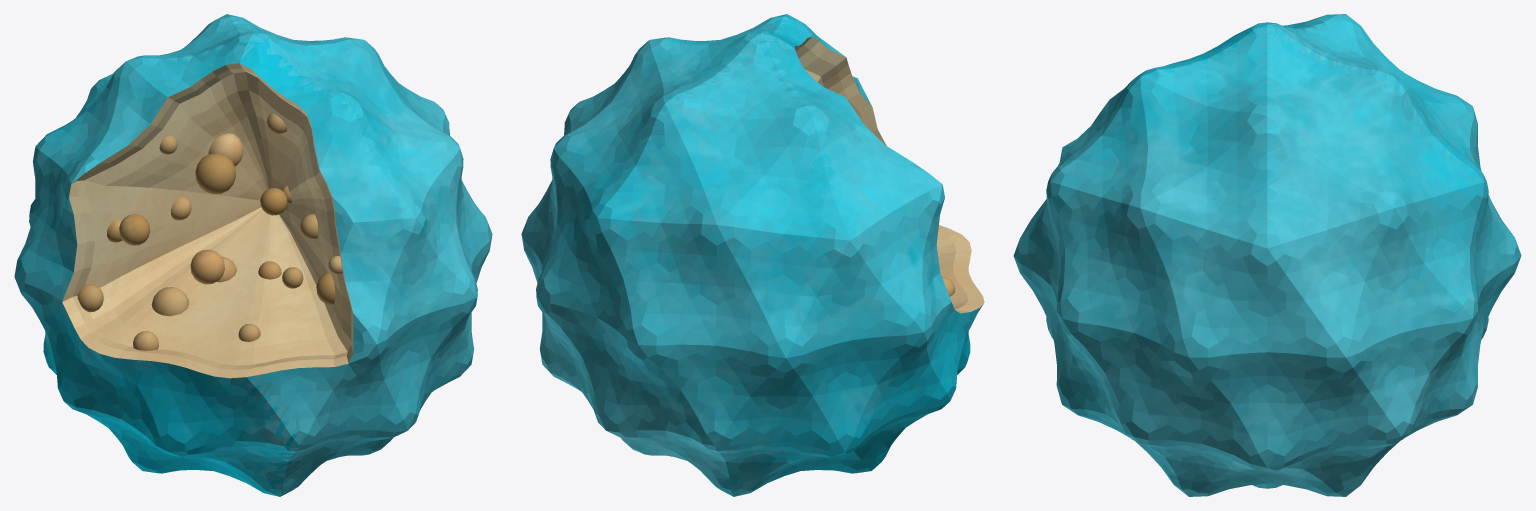
The model's file is lysosome.glb.
The picture shows the model from 3 angles, left to right: view 1: azimuth 30°, elevation 25°; view 2: azimuth 150°, elevation 25°; view 3: azimuth 270°, elevation 25°; orthographic projection. The views are drawn at different scales.
Parts seen in each view (by area): view 1: Sphere.006; view 2: Sphere.006; view 3: Sphere.006.
Boxes of the visible parts, box(x1,y1,x2,y2) form: Sphere.006: box(14, 14, 492, 496); Sphere.006: box(521, 14, 984, 496); Sphere.006: box(1013, 14, 1521, 496).
Bounding box in the file's own units: 1.97 × 2.08 × 2.07.
Materials: 1 (1 with a texture image).
